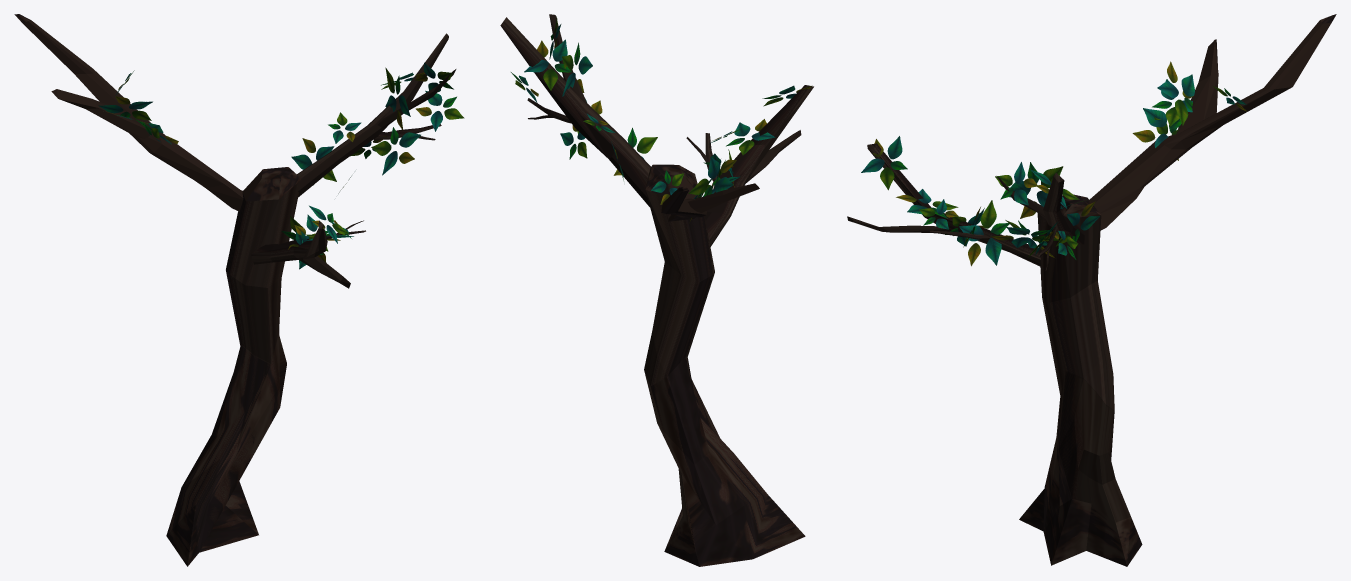
The model's file is SmallTree_04.fbx.
3 renders of one model, left to right at view 1: azimuth 30°, elevation 25°; view 2: azimuth 150°, elevation 25°; view 3: azimuth 270°, elevation 25°, orthographic. The views are drawn at different scales.
Parts seen in each view (by area): view 1: Cylinder.009, leaf.002; view 2: Cylinder.009, leaf.002; view 3: Cylinder.009, leaf.002.
Part boxes in pixels (box(x1,y1,x2,y2)): Cylinder.009: box(14, 14, 456, 566); leaf.002: box(98, 62, 464, 269); Cylinder.009: box(500, 14, 813, 566); leaf.002: box(511, 16, 812, 222); Cylinder.009: box(847, 14, 1336, 566); leaf.002: box(861, 61, 1247, 266).
Size of the model in its own units: 97.84 by 128 by 115.
